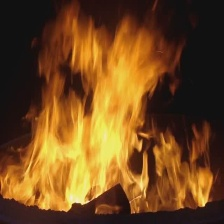fire: (6, 9, 220, 215)
